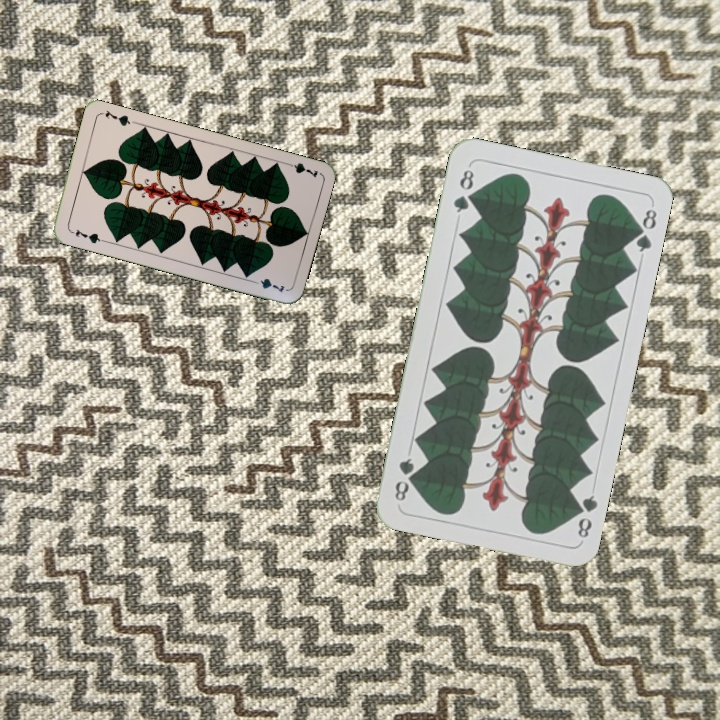G7: (280, 158, 320, 180), (66, 225, 106, 246)
G8: (569, 491, 600, 541), (449, 162, 477, 215)
